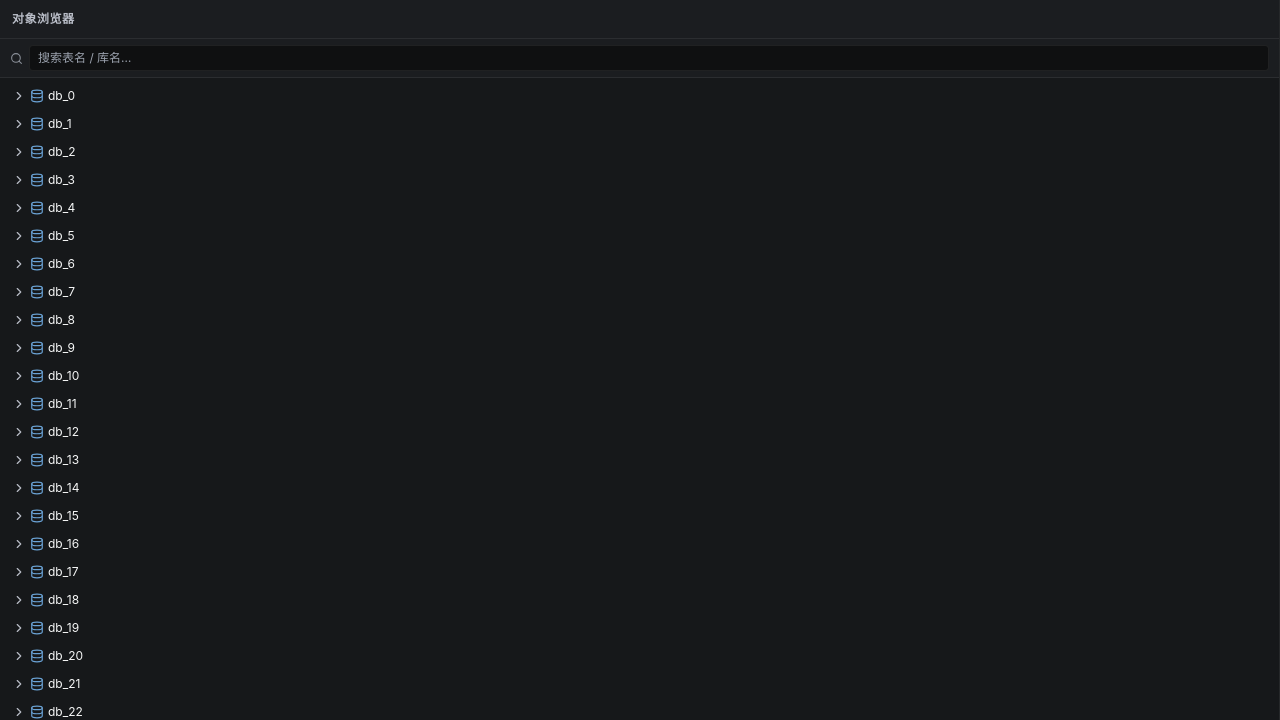
Scenario: ObjectExplorer › 阶段6：大量数据库/表时由 .db-list 统一纵向滚动（结构调整为单滚动容器）
The width and height of the screenshot is (1280, 720).
Check: the list with class "db-list" is shown, box [12,88,83,719]
Note: 展开一个库，确认表/字段列表是 db-list 的子级（共享同一滚动源），而非独立滚动区
Click the text "db_0": click(62, 96) [48,87,75,105]
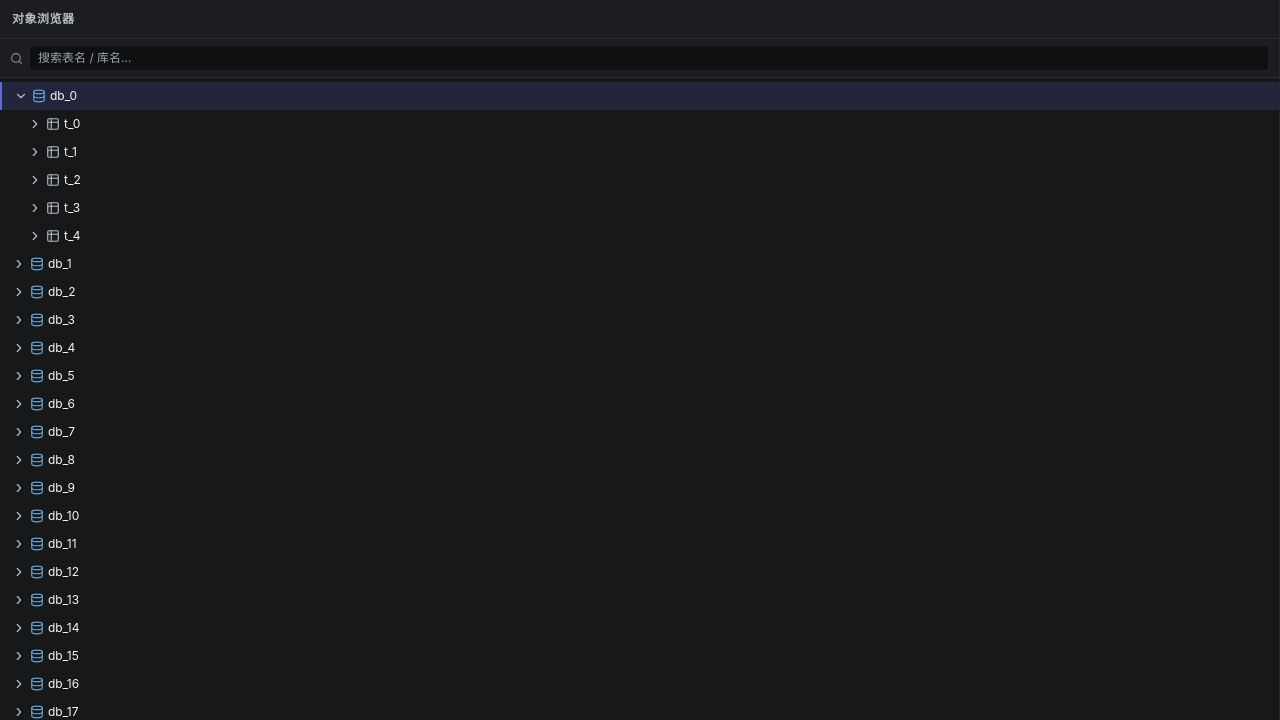
Check: the text "t_0" is shown, box [64,115,80,133]
Check: the list with class "table-list" is shown, box [28,116,81,243]
